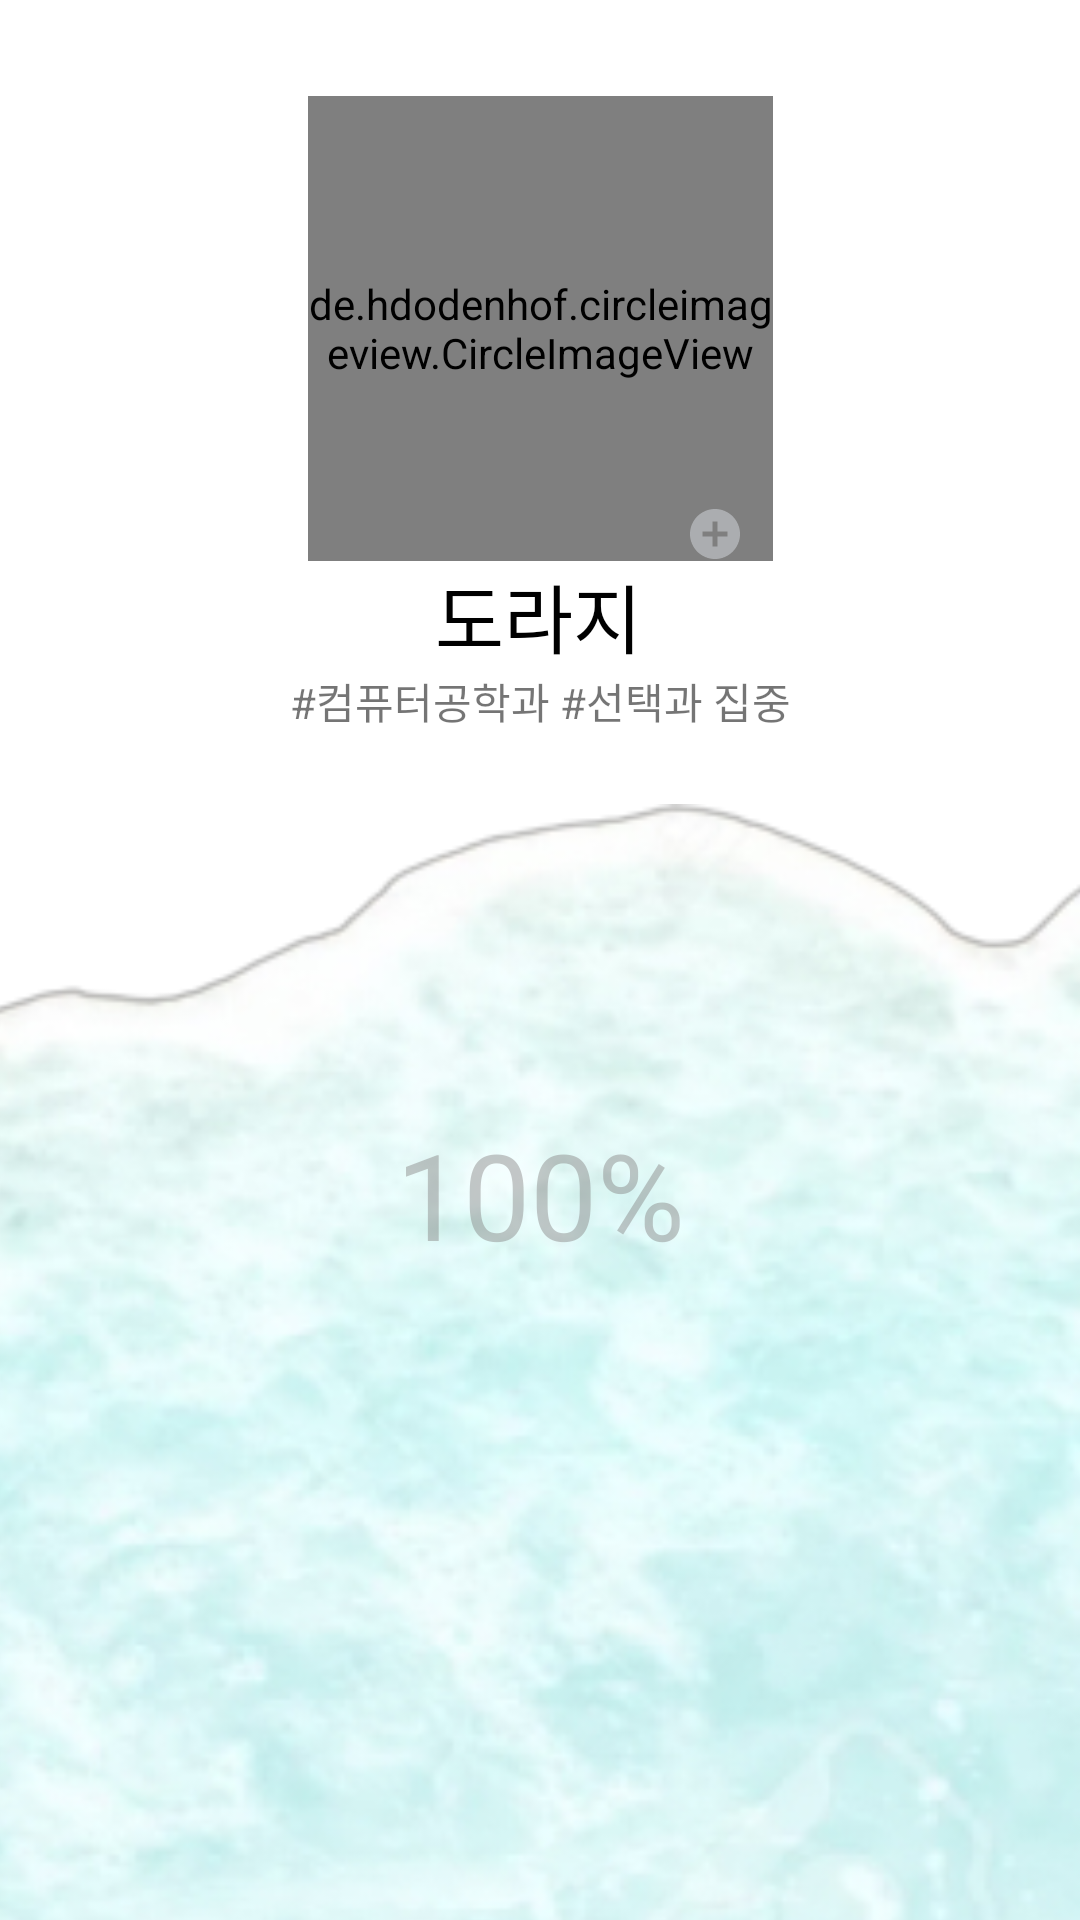

Icons on this 1080x1920 Android screen, each with its box as (x1, y1, x2, y2):
add: (690, 509, 740, 559)
